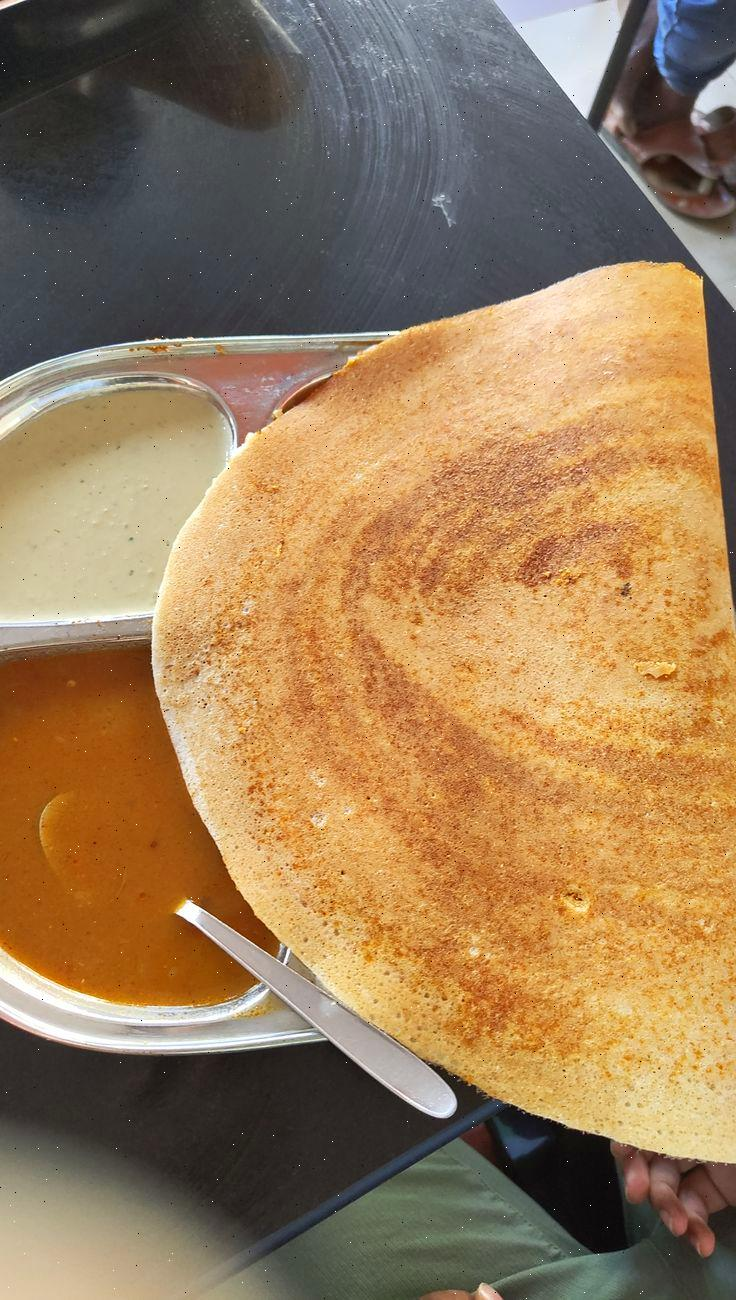dosa: (216, 272, 736, 1179)
